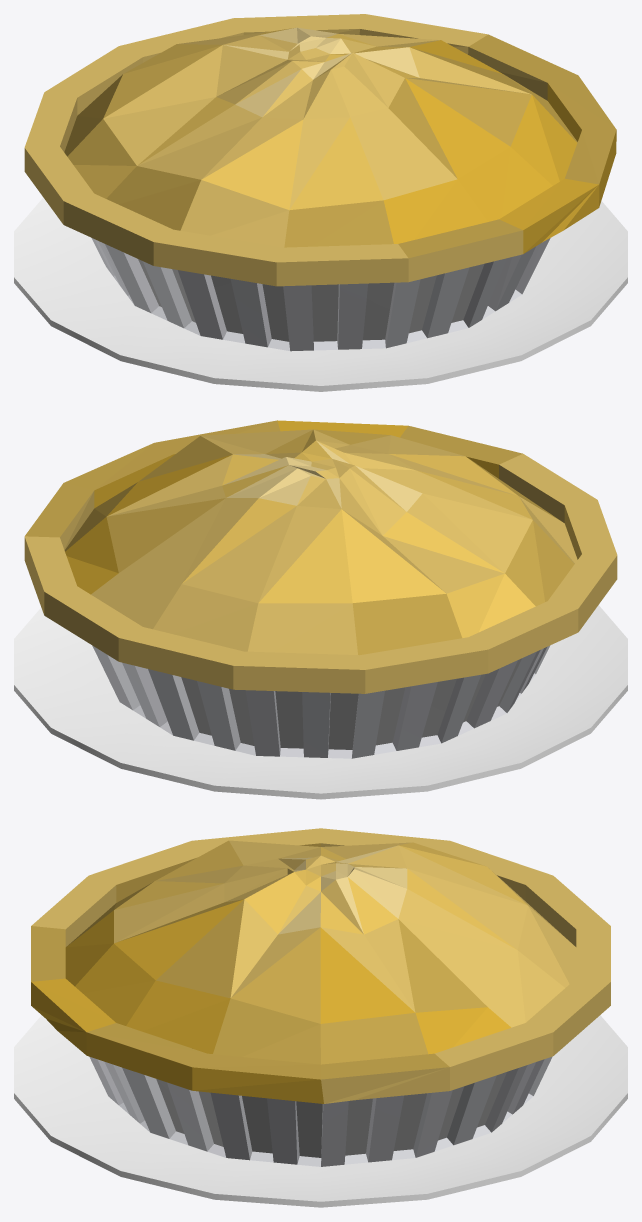
The model's file is tarte2.FBX.
3 renders of one model, top to bottom at view 1: azimuth 30°, elevation 25°; view 2: azimuth 150°, elevation 25°; view 3: azimuth 270°, elevation 25°, orthographic.
Visible parts, largest first — view 1: Cylinder001 (×2); view 2: Cylinder001 (×2); view 3: Cylinder001 (×2).
Part boxes in pixels (x1,y1,x2,y2): Cylinder001 (×2): [14, 14, 627, 391]; Cylinder001 (×2): [14, 420, 627, 799]; Cylinder001 (×2): [14, 828, 627, 1207].
Bounding box in the file's own units: 107 × 44.49 × 106.
